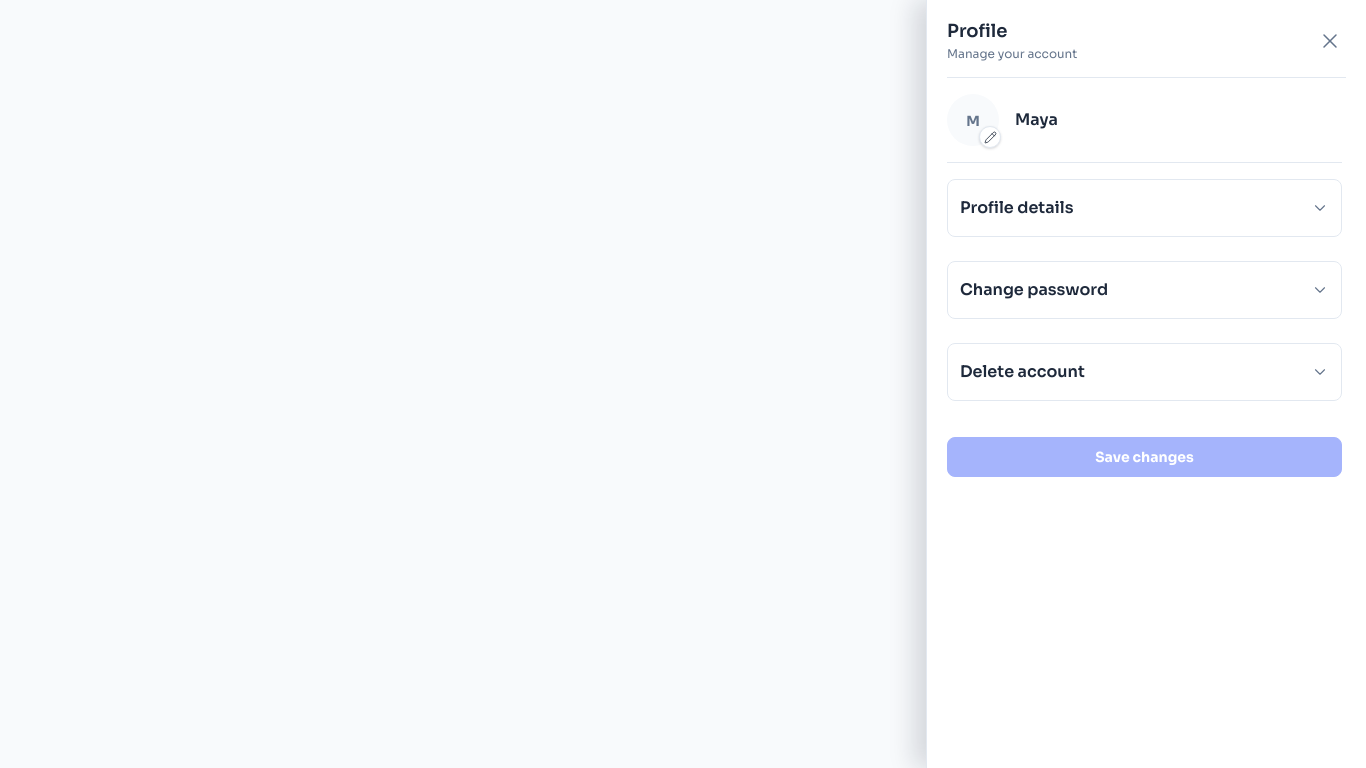
Test case: ProfileDrawer › keeps password fields collapsed until opened
The width and height of the screenshot is (1366, 768).
Click the button "Change password".
click(1034, 290)  # box [948,262,1341,318]
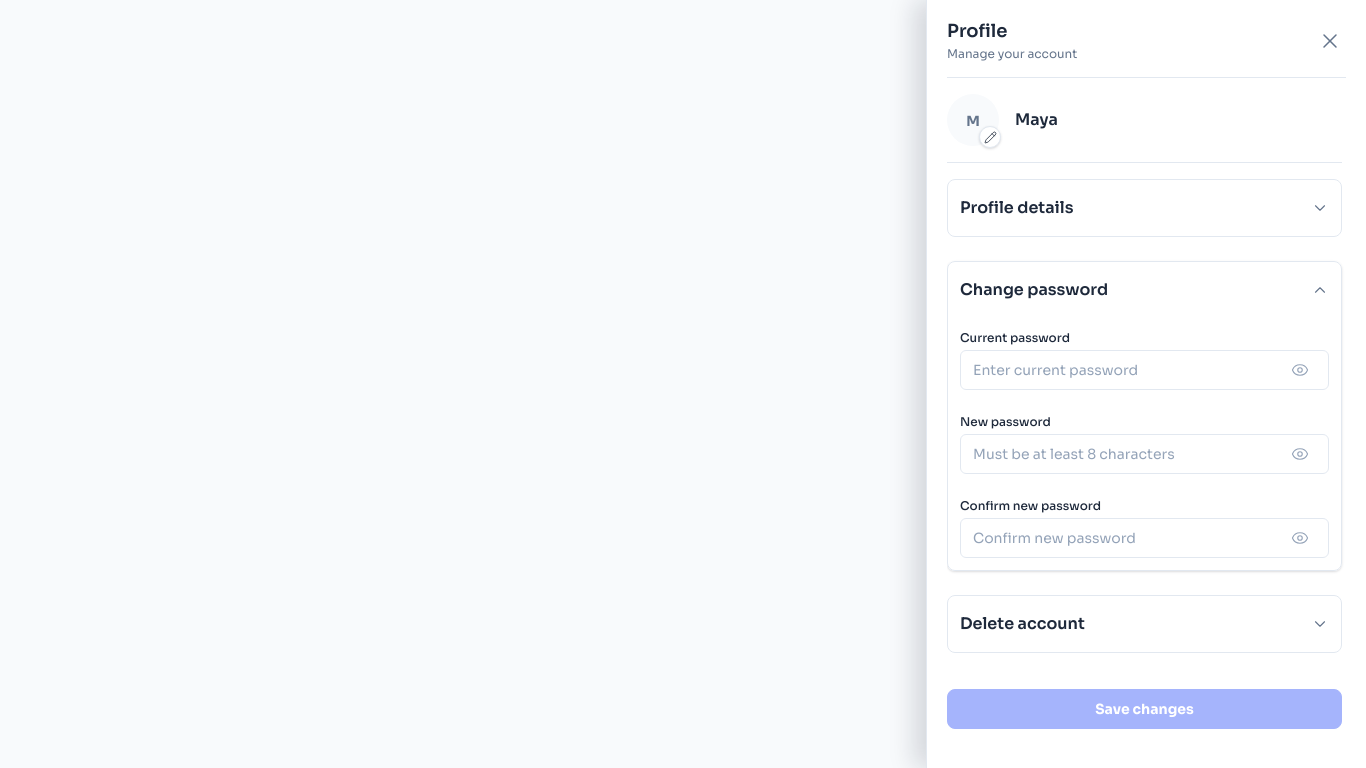
Expected: the button "Change password" is expanded, [948,262,1341,318]
Expected: the password field with placeholder "Enter current password" is shown, [973,351,1276,389]
Expected: the password field with placeholder "Must be at least 8 characters" is shown, [973,435,1276,473]
